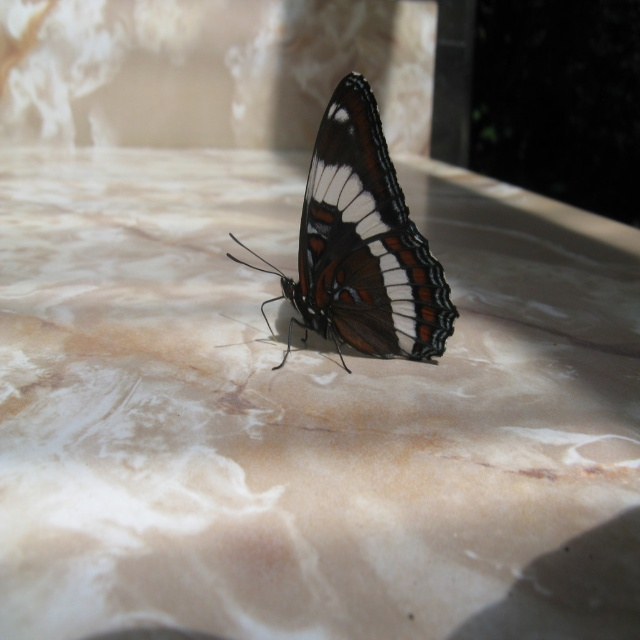Butterfly: (218, 59, 455, 385)
